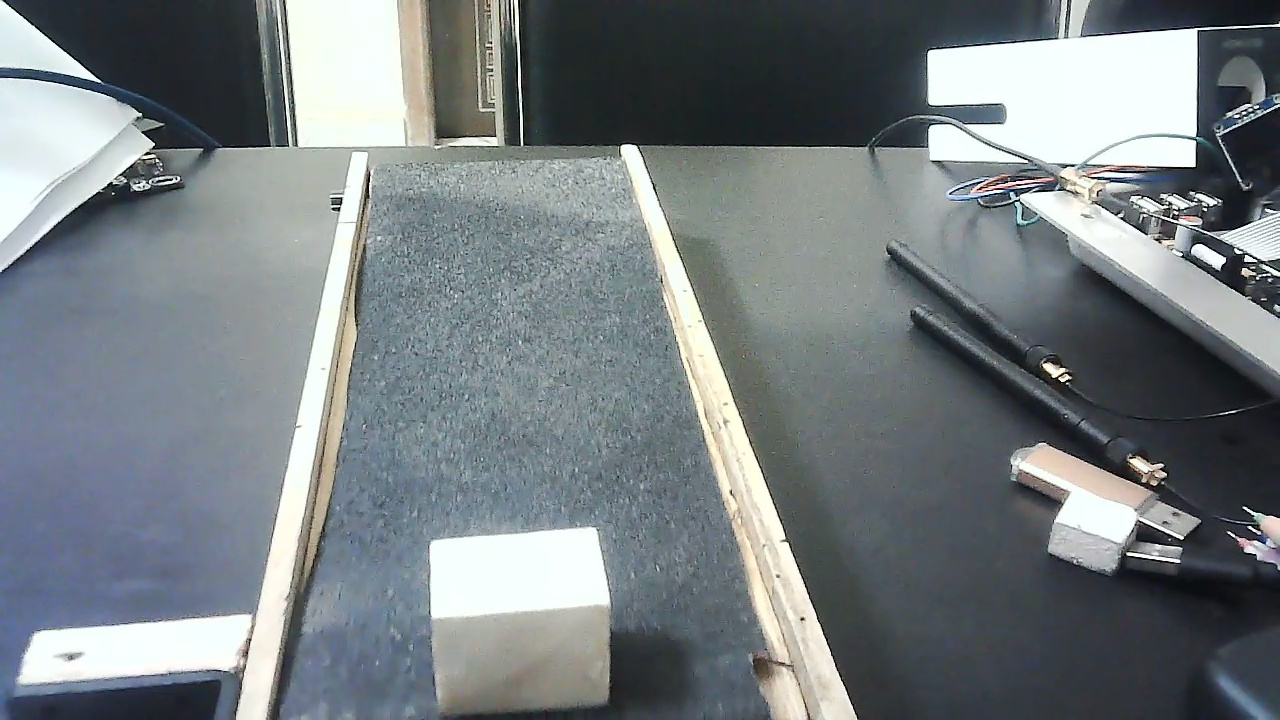Medium: (429, 526, 613, 711)
